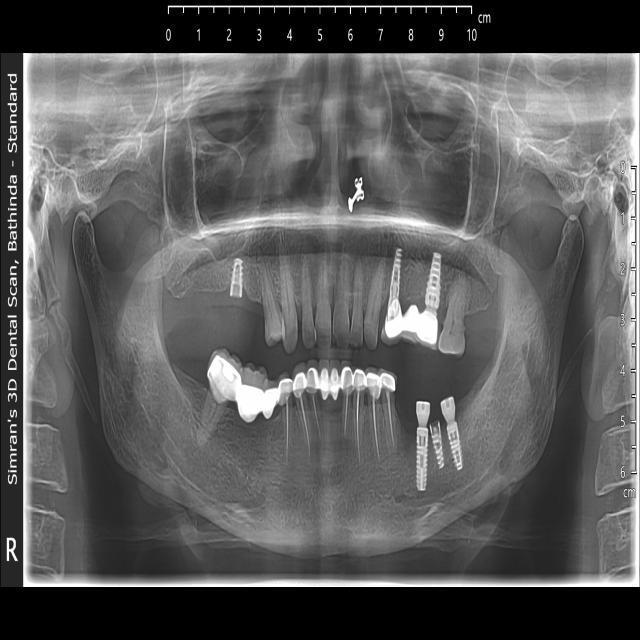implant: (440, 394, 466, 478), (384, 242, 406, 339), (422, 248, 442, 352), (409, 398, 432, 486), (427, 418, 448, 469), (228, 257, 248, 308)
kanal-tedavisi: (350, 391, 366, 468), (381, 387, 400, 450), (297, 396, 313, 464), (367, 393, 383, 461), (308, 392, 327, 439), (282, 401, 294, 466), (342, 388, 352, 438)
kaplama: (204, 351, 241, 408), (278, 375, 298, 406), (290, 368, 308, 399), (365, 370, 382, 400), (338, 361, 354, 391), (304, 367, 320, 396), (380, 369, 398, 393), (352, 366, 367, 394)
kopru: (228, 380, 285, 420), (379, 301, 439, 339), (310, 368, 350, 404)
